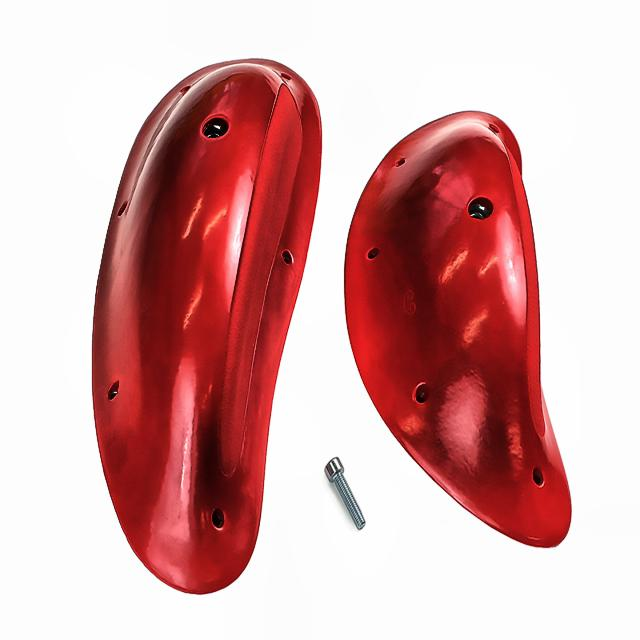Hold: (93, 56, 324, 596), (342, 110, 574, 549)
